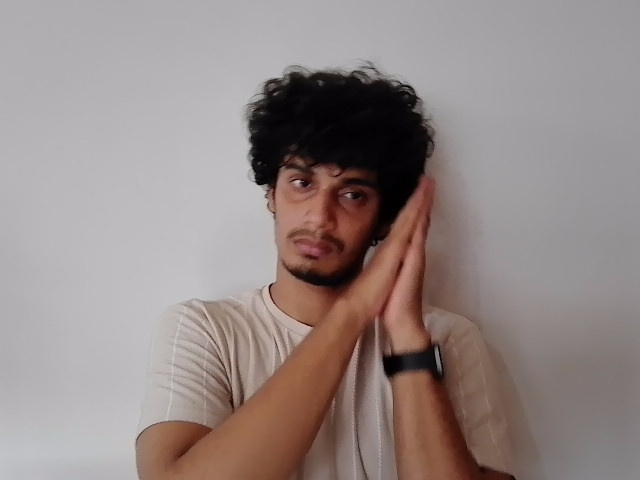sleep: (334, 173, 432, 315)
